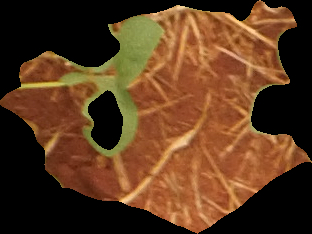soil: (5, 3, 309, 231)
